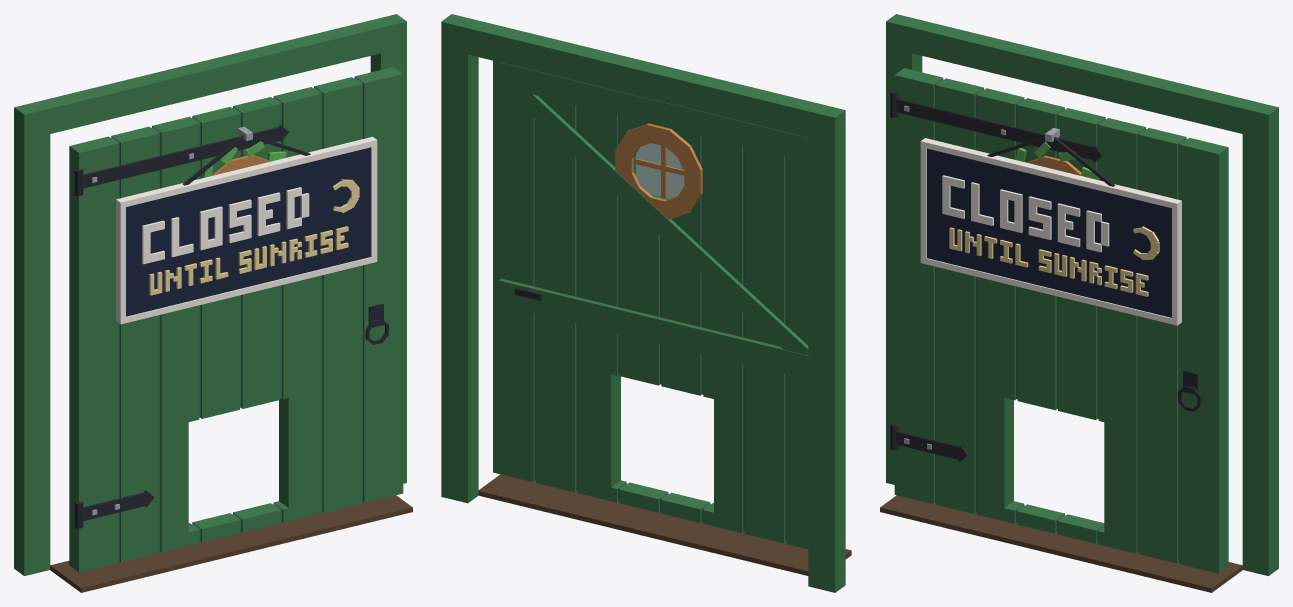
File: CatCafe_Door_GardenGate_Back.glb
The picture shows the model from 3 angles, left to right: view 1: azimuth 30°, elevation 25°; view 2: azimuth 150°, elevation 25°; view 3: azimuth 330°, elevation 25°; orthographic projection. The views are drawn at different scales.
Parts seen in each view (by area): view 1: CatCafe_Door_GardenGate_Back_Leaf, CatCafe_Door_GardenGate_Back, CatCafe_Door_GardenGate_Back_Sign, CatCafe_Door_GardenGate_Back_Sign_Bulb; view 2: CatCafe_Door_GardenGate_Back_Leaf, CatCafe_Door_GardenGate_Back, CatCafe_Door_GardenGate_Back_Leaf_Glass; view 3: CatCafe_Door_GardenGate_Back_Leaf, CatCafe_Door_GardenGate_Back, CatCafe_Door_GardenGate_Back_Sign, CatCafe_Door_GardenGate_Back_Sign_Bulb.
Part boxes in pixels (x1,y1,x2,y2): CatCafe_Door_GardenGate_Back_Leaf: (69,67,403,572); CatCafe_Door_GardenGate_Back: (14,14,412,592); CatCafe_Door_GardenGate_Back_Sign: (116,126,377,324); CatCafe_Door_GardenGate_Back_Sign_Bulb: (142,179,359,295); CatCafe_Door_GardenGate_Back_Leaf: (493,60,808,549); CatCafe_Door_GardenGate_Back: (441,14,851,592); CatCafe_Door_GardenGate_Back_Leaf_Glass: (636,143,684,198); CatCafe_Door_GardenGate_Back_Leaf: (890,68,1228,573); CatCafe_Door_GardenGate_Back: (880,14,1278,592); CatCafe_Door_GardenGate_Back_Sign: (920,128,1181,325); CatCafe_Door_GardenGate_Back_Sign_Bulb: (942,175,1159,296).
Bounding box in the file's own units: 6.9 × 7.95 × 1.3.
1 material, 1 textured.
